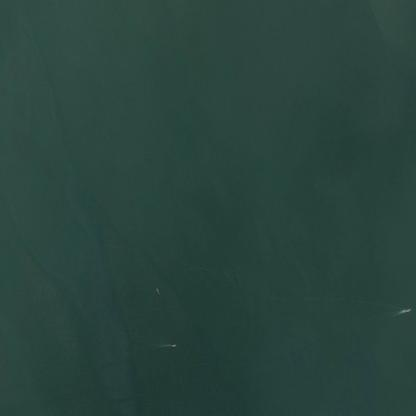ship: (399, 303, 411, 319), (152, 282, 163, 298), (162, 342, 178, 350)
